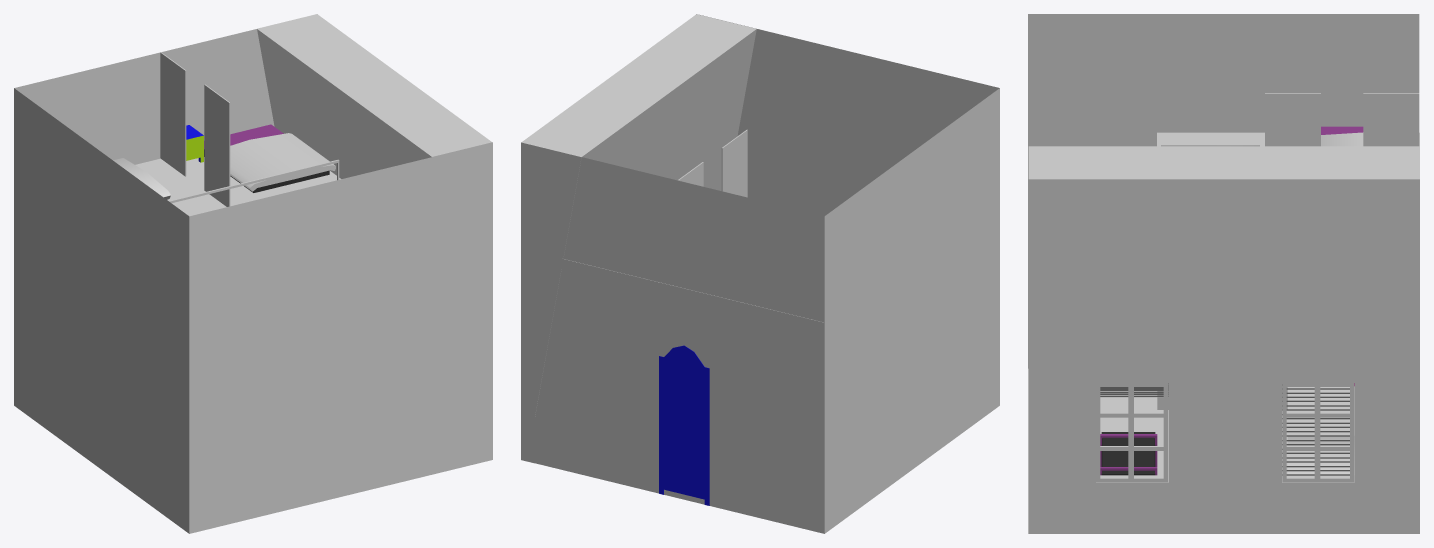
File: dortoire.FBX
3 views of the same model, side by side, from view 1: azimuth 30°, elevation 25°; view 2: azimuth 150°, elevation 25°; view 3: azimuth 270°, elevation 25° (orthographic). The views are drawn at different scales.
Parts seen in each view (by area): view 1: piece carre013, couette001, rideaux, rideaux001, matelats, rambarde dortoire mezza, couette002, table de chevet001; view 2: piece carre013, armoire dortoir, rideaux001; view 3: piece carre013, rideaux, rideaux001, stores, fenetre unity007, fenetre unity006, malle, couette, couette002.
Boxes of the visible parts, x1,y1,x2,y2 form: piece carre013: (14,14,492,533); couette001: (230,133,335,191); rideaux: (160,52,186,176); rideaux001: (204,84,230,206); matelats: (204,124,329,192); rambarde dortoire mezza: (169,159,339,203); couette002: (113,158,170,199); table de chevet001: (186,125,203,162); piece carre013: (521,14,999,533); armoire dortoir: (659,345,709,505); rideaux001: (721,129,747,197); piece carre013: (1028,14,1419,533); rideaux: (1363,93,1419,146); rideaux001: (1265,93,1320,146); stores: (1100,383,1349,475); fenetre unity007: (1282,383,1354,482); fenetre unity006: (1096,383,1167,482); malle: (1100,432,1157,475); couette: (1287,436,1354,474); couette002: (1321,132,1363,146).
Size of the model in its own units: 600 by 604 by 601.
